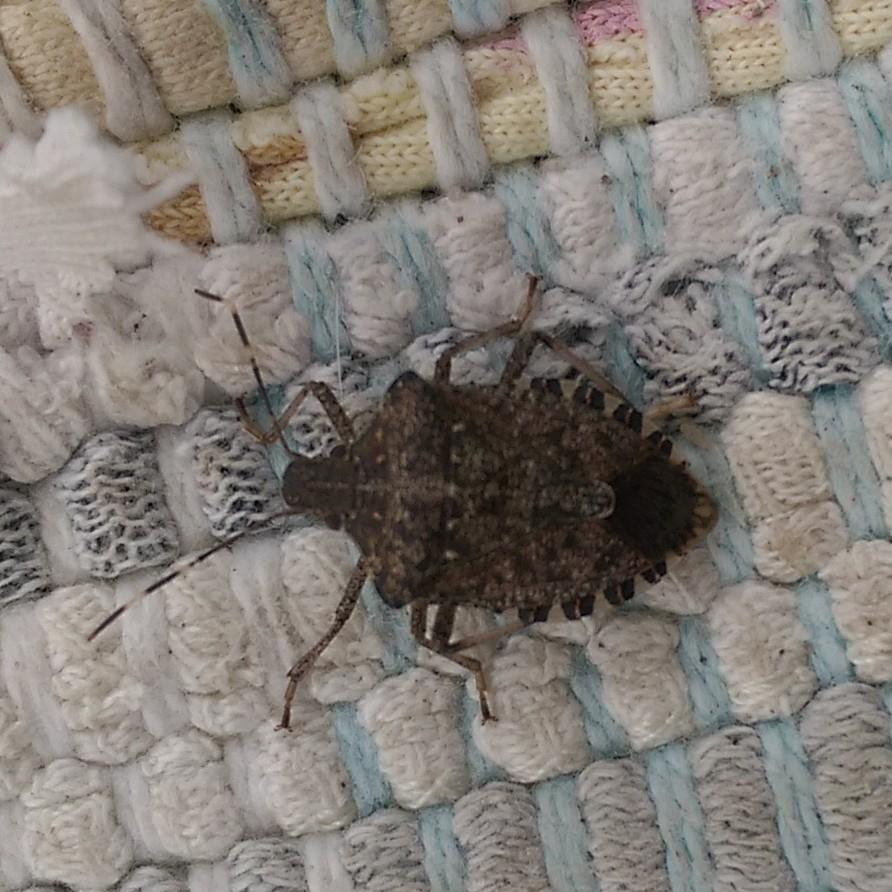stink_bugs: (7, 235, 872, 776)
